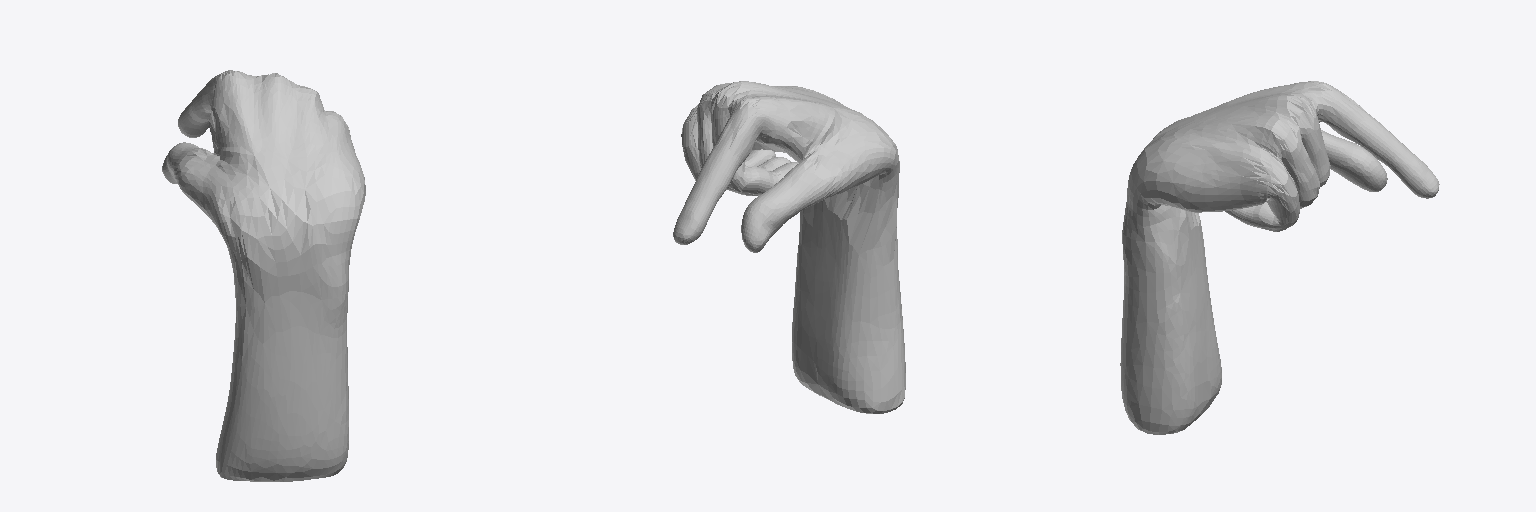
File: mainq.obj
The picture shows the model from 3 angles: view 1: azimuth 30°, elevation 25°; view 2: azimuth 150°, elevation 25°; view 3: azimuth 270°, elevation 25°; orthographic projection.
Visible parts, largest first — view 1: ZBrush_defualt_group; view 2: ZBrush_defualt_group; view 3: ZBrush_defualt_group.
Part boxes in pixels (bbox=[...]): ZBrush_defualt_group: bbox=[162, 70, 365, 481]; ZBrush_defualt_group: bbox=[673, 81, 905, 413]; ZBrush_defualt_group: bbox=[1120, 81, 1439, 434].
Bounding box in the file's own units: 3.15 × 6.02 × 5.08.